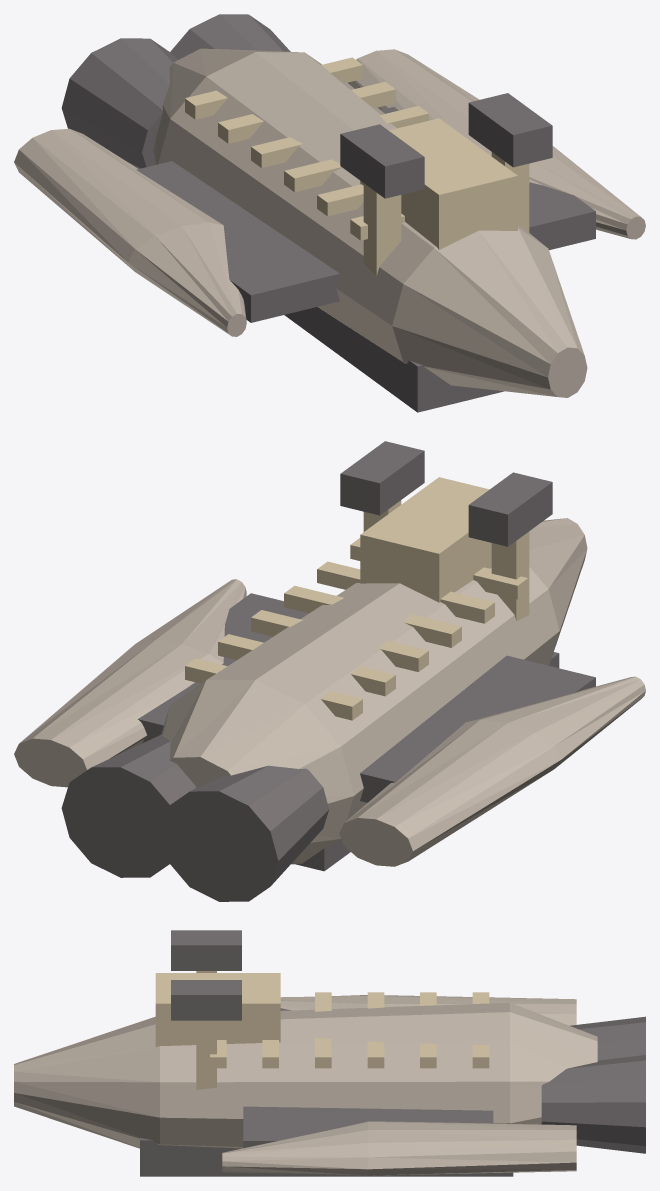
3 views of the same model, one above another, from view 1: azimuth 30°, elevation 25°; view 2: azimuth 150°, elevation 25°; view 3: azimuth 270°, elevation 25° (orthographic). The views are drawn at different scales.
Size of the model in its own units: 3.63 by 1.97 by 5.76.
